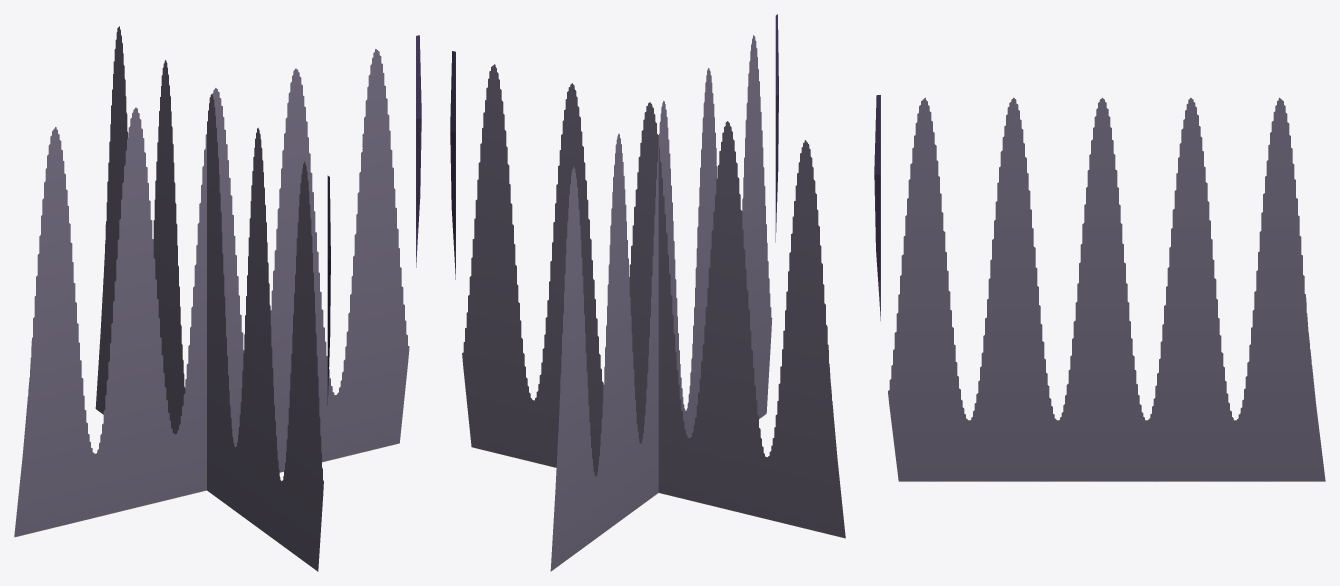
Rendered from grass_tuft_a.glb.
3 renders of one model, left to right at view 1: azimuth 30°, elevation 25°; view 2: azimuth 150°, elevation 25°; view 3: azimuth 270°, elevation 25°, orthographic. The views are drawn at different scales.
Visible parts, largest first — view 1: lod0; view 2: lod0; view 3: lod0.
Part boxes in pixels (box(x1,y1,x2,y2)): lod0: box(14, 26, 421, 571); lod0: box(450, 14, 845, 571); lod0: box(874, 95, 1325, 481).
Size of the model in its own units: 0.74 by 0.7 by 0.74.
1 material, 1 textured.
